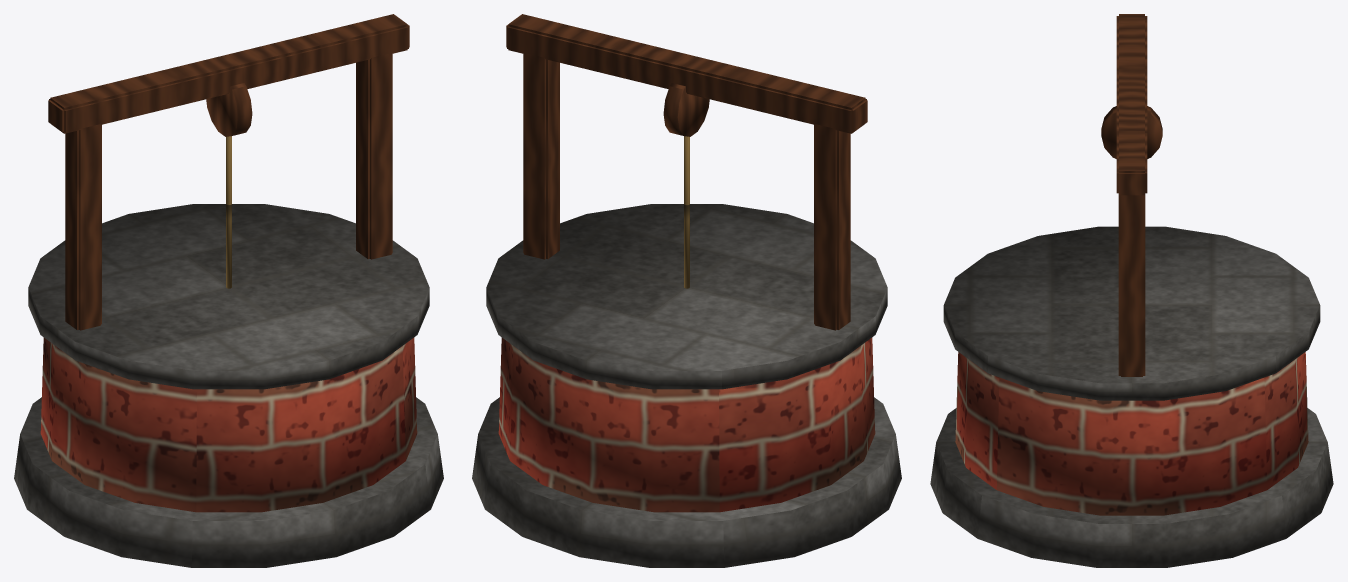
File: prop_kerala_kinar.glb
The picture shows the model from 3 angles, left to right: view 1: azimuth 30°, elevation 25°; view 2: azimuth 150°, elevation 25°; view 3: azimuth 270°, elevation 25°; orthographic projection. The views are drawn at different scales.
Visible parts, largest first — view 1: prop_kerala_kinar; view 2: prop_kerala_kinar; view 3: prop_kerala_kinar.
Part boxes in pixels (x1,y1,x2,y2): prop_kerala_kinar: [14, 14, 443, 567]; prop_kerala_kinar: [472, 14, 901, 567]; prop_kerala_kinar: [930, 14, 1333, 567].
Size of the model in its own units: 2.07 by 2.25 by 2.1.
4 materials, 4 textured.
